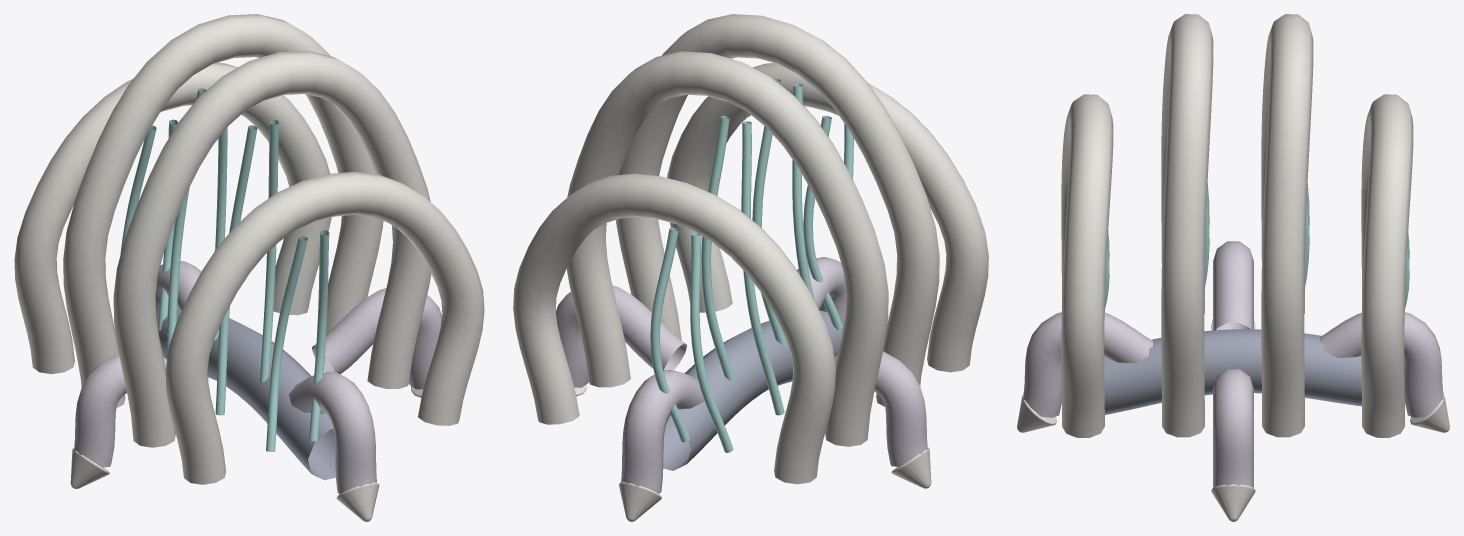
File: bio_blind_harp_01_near.glb
The picture shows the model from 3 angles, left to right: view 1: azimuth 30°, elevation 25°; view 2: azimuth 150°, elevation 25°; view 3: azimuth 270°, elevation 25°; orthographic projection. The views are drawn at different scales.
Parts seen in each view (by area): view 1: Open rib arch.001, Open rib arch, Open rib arch.002, Open rib arch.003, Low axial spine, Crooked support.003, Crooked support, Resonance filament.002, Resonance filament, Crooked support.002, Resonance filament.004, Resonance filament.006 (+3 smaller); view 2: Open rib arch.002, Open rib arch.003, Open rib arch.001, Open rib arch, Low axial spine, Crooked support.001, Resonance filament.004, Crooked support, Resonance filament.006, Crooked support.002, Resonance filament.002, Resonance filament (+3 smaller); view 3: Open rib arch.001, Open rib arch.002, Open rib arch, Open rib arch.003, Low axial spine, Crooked support.003, Crooked support.001, Crooked support, Crooked support.002, Contact spur, Contact spur.001, Contact spur.003.
Boxes of the visible parts, left/top/right/bottom form: Open rib arch.001: left=113, top=51, right=431, bottom=447; Open rib arch: left=165, top=171, right=484, bottom=484; Open rib arch.002: left=63, top=14, right=383, bottom=408; Open rib arch.003: left=14, top=62, right=331, bottom=374; Low axial spine: left=158, top=307, right=335, bottom=480; Crooked support.003: left=288, top=371, right=376, bottom=494; Crooked support: left=311, top=288, right=441, bottom=389; Resonance filament.002: left=215, top=120, right=278, bottom=415; Resonance filament: left=266, top=230, right=329, bottom=451; Crooked support.002: left=72, top=353, right=166, bottom=467; Resonance filament.004: left=166, top=88, right=227, bottom=358; Resonance filament.006: left=120, top=119, right=177, bottom=330; Open rib arch.002: left=566, top=51, right=888, bottom=446; Open rib arch.003: left=513, top=173, right=835, bottom=484; Open rib arch.001: left=616, top=14, right=939, bottom=406; Open rib arch: left=667, top=63, right=988, bottom=372; Low axial spine: left=663, top=310, right=841, bottom=470; Crooked support.001: left=621, top=369, right=704, bottom=493; Resonance filament.004: left=701, top=115, right=784, bottom=415; Crooked support: left=556, top=285, right=687, bottom=387; Resonance filament.006: left=650, top=227, right=733, bottom=452; Crooked support.002: left=791, top=351, right=929, bottom=466; Resonance filament.002: left=752, top=78, right=814, bottom=347; Resonance filament: left=803, top=115, right=853, bottom=330; Open rib arch.001: left=1161, top=14, right=1213, bottom=437; Open rib arch.002: left=1261, top=14, right=1313, bottom=437; Open rib arch: left=1061, top=94, right=1113, bottom=437; Open rib arch.003: left=1361, top=94, right=1413, bottom=437; Low axial spine: left=1104, top=329, right=1361, bottom=414; Crooked support.003: left=1022, top=312, right=1152, bottom=417; Crooked support.001: left=1320, top=312, right=1444, bottom=417; Crooked support: left=1213, top=369, right=1253, bottom=492; Crooked support.002: left=1213, top=241, right=1253, bottom=330; Contact spur: left=1211, top=484, right=1255, bottom=521; Contact spur.001: left=1410, top=394, right=1449, bottom=432; Contact spur.003: left=1017, top=394, right=1056, bottom=432.
Bounding box in the file's own units: 2.02 × 2.07 × 2.02.
